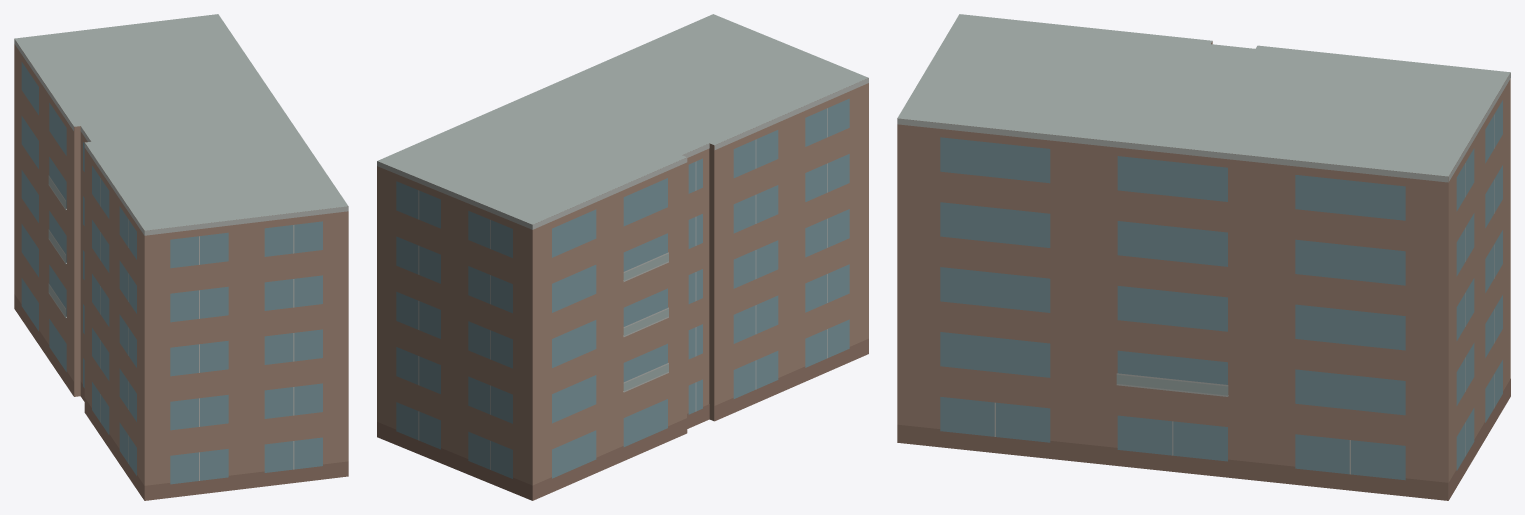
The model's file is survey-upis-32878543.glb.
3 renders of one model, left to right at view 1: azimuth 30°, elevation 25°; view 2: azimuth 150°, elevation 25°; view 3: azimuth 270°, elevation 25°, orthographic. The views are drawn at different scales.
Visible parts, largest first — view 1: survey-upis-32878543.tmp; view 2: survey-upis-32878543.tmp; view 3: survey-upis-32878543.tmp.
Part boxes in pixels (x1,y1,x2,y2): survey-upis-32878543.tmp: [14, 14, 348, 500]; survey-upis-32878543.tmp: [377, 14, 868, 500]; survey-upis-32878543.tmp: [897, 14, 1510, 500].
Size of the model in its own units: 14.2 by 13.2 by 22.64.
